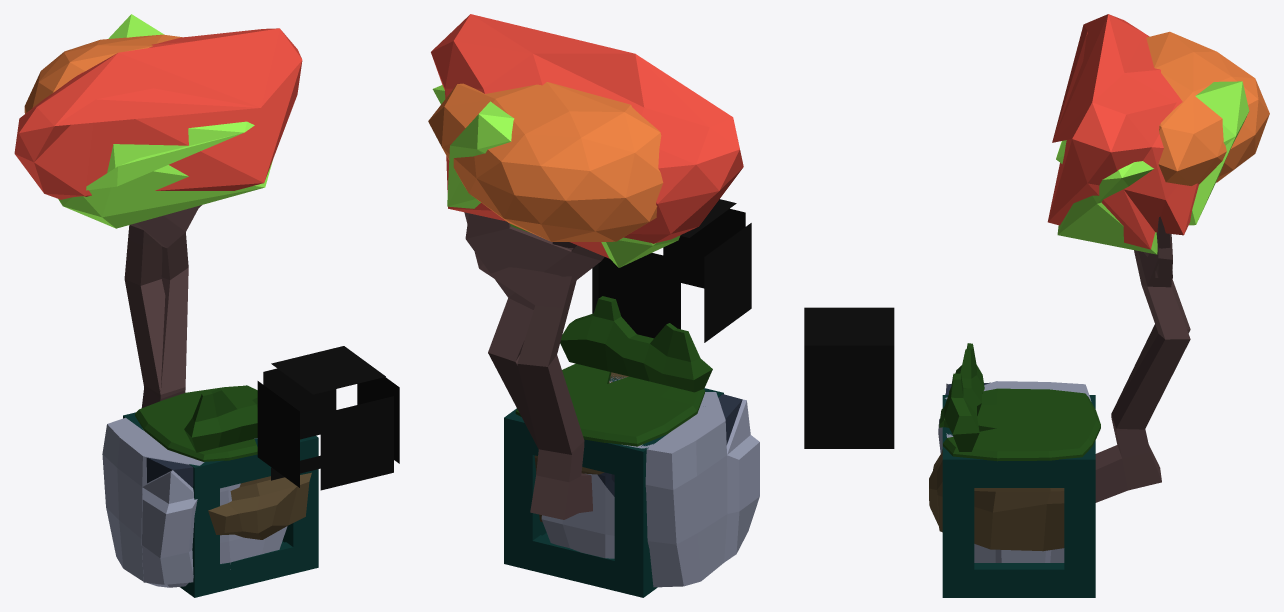
Rendered from LevelParts.fbx.
The picture shows the model from 3 angles, left to right: view 1: azimuth 30°, elevation 25°; view 2: azimuth 150°, elevation 25°; view 3: azimuth 270°, elevation 25°; orthographic projection. The views are drawn at different scales.
Visible parts, largest first — view 1: TreeTop2, Cube.009, Tile stone, TreeTop3, Crate, TreeTrunk1, TreeTrunk2, TileDirt, TileTopGrass, TileBush, Cube.004; view 2: Cube.004, TreeTop2, Tile stone, Crate, Cube.009, TreeTrunk2, TreeTrunk1, TileBush, TileTopGrass, TreeTop3; view 3: TreeTop2, Crate, Cube.009, Cube.004, TileTopGrass, TreeTrunk1, TileDirt, TreeTop3, TreeTrunk2, TileBush, Tile stone.
Part boxes in pixels (x1,y1,x2,y2): TreeTop2: [14, 28, 302, 199]; Cube.009: [257, 346, 399, 490]; Tile stone: [102, 417, 287, 587]; TreeTop3: [58, 14, 272, 228]; Crate: [123, 385, 318, 597]; TreeTrunk1: [130, 205, 199, 407]; TreeTrunk2: [124, 205, 201, 407]; TileDirt: [208, 472, 311, 539]; TileTopGrass: [135, 385, 300, 461]; TileBush: [184, 388, 257, 452]; Cube.004: [24, 34, 181, 113]; Cube.004: [428, 82, 663, 241]; TreeTop2: [431, 14, 743, 258]; Tile stone: [541, 377, 759, 587]; Crate: [504, 376, 723, 597]; Cube.009: [592, 199, 751, 342]; TreeTrunk2: [464, 212, 592, 519]; TreeTrunk1: [465, 213, 604, 519]; TileBush: [560, 296, 712, 392]; TileTopGrass: [515, 363, 705, 446]; TreeTop3: [432, 85, 680, 267]; TreeTop2: [1047, 14, 1198, 249]; Crate: [942, 395, 1095, 597]; Cube.009: [804, 307, 894, 448]; Cube.004: [1146, 31, 1269, 185]; TileTopGrass: [939, 388, 1100, 461]; TreeTrunk1: [1095, 234, 1190, 499]; TileDirt: [929, 449, 1064, 551]; TreeTop3: [1056, 81, 1249, 254]; TreeTrunk2: [1095, 216, 1190, 502]; TileBush: [944, 343, 984, 451]; Tile stone: [938, 381, 1091, 562].
Bounding box in the file's own units: 4.46 × 7.53 × 6.31.
